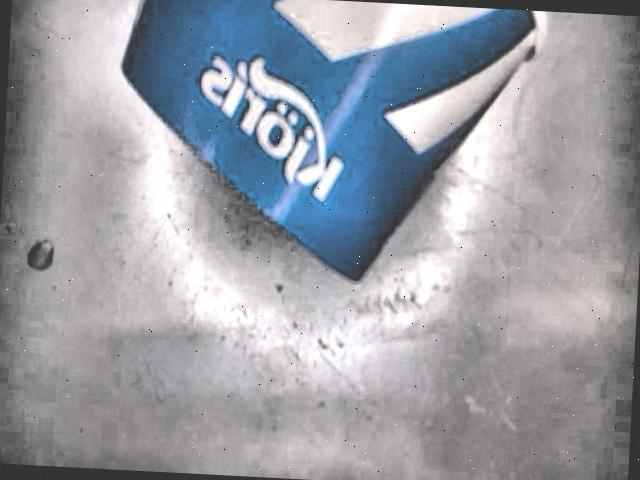Paper: (116, 0, 548, 285)
